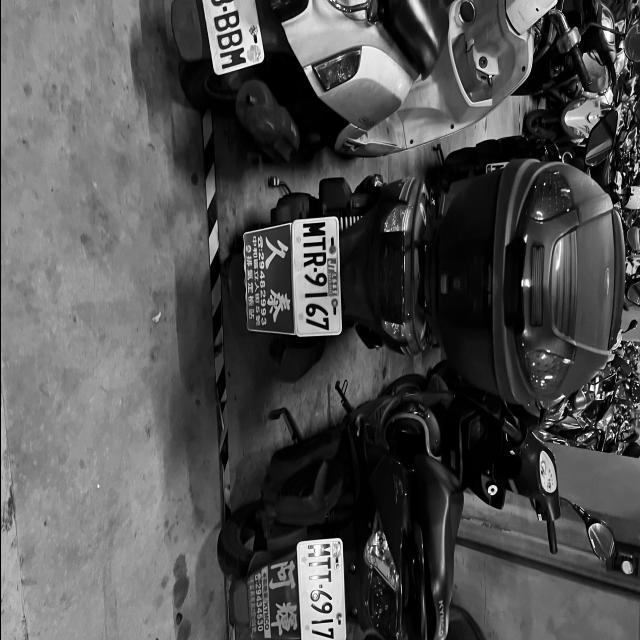-: (221, 5, 228, 12), (312, 267, 316, 274), (318, 583, 322, 589)
1: (310, 615, 332, 627), (303, 290, 327, 300)
6: (304, 304, 328, 318), (309, 590, 332, 602)
7: (304, 317, 330, 331), (311, 626, 334, 640)
9: (303, 272, 327, 288), (309, 602, 332, 616)
B: (211, 8, 240, 34), (214, 28, 243, 52)
M: (218, 47, 247, 72), (302, 221, 326, 237), (307, 544, 330, 558)
R: (301, 252, 325, 267)
T: (301, 237, 325, 251), (308, 570, 330, 584), (306, 558, 331, 570)
plate: (296, 217, 338, 338), (299, 540, 338, 640)
